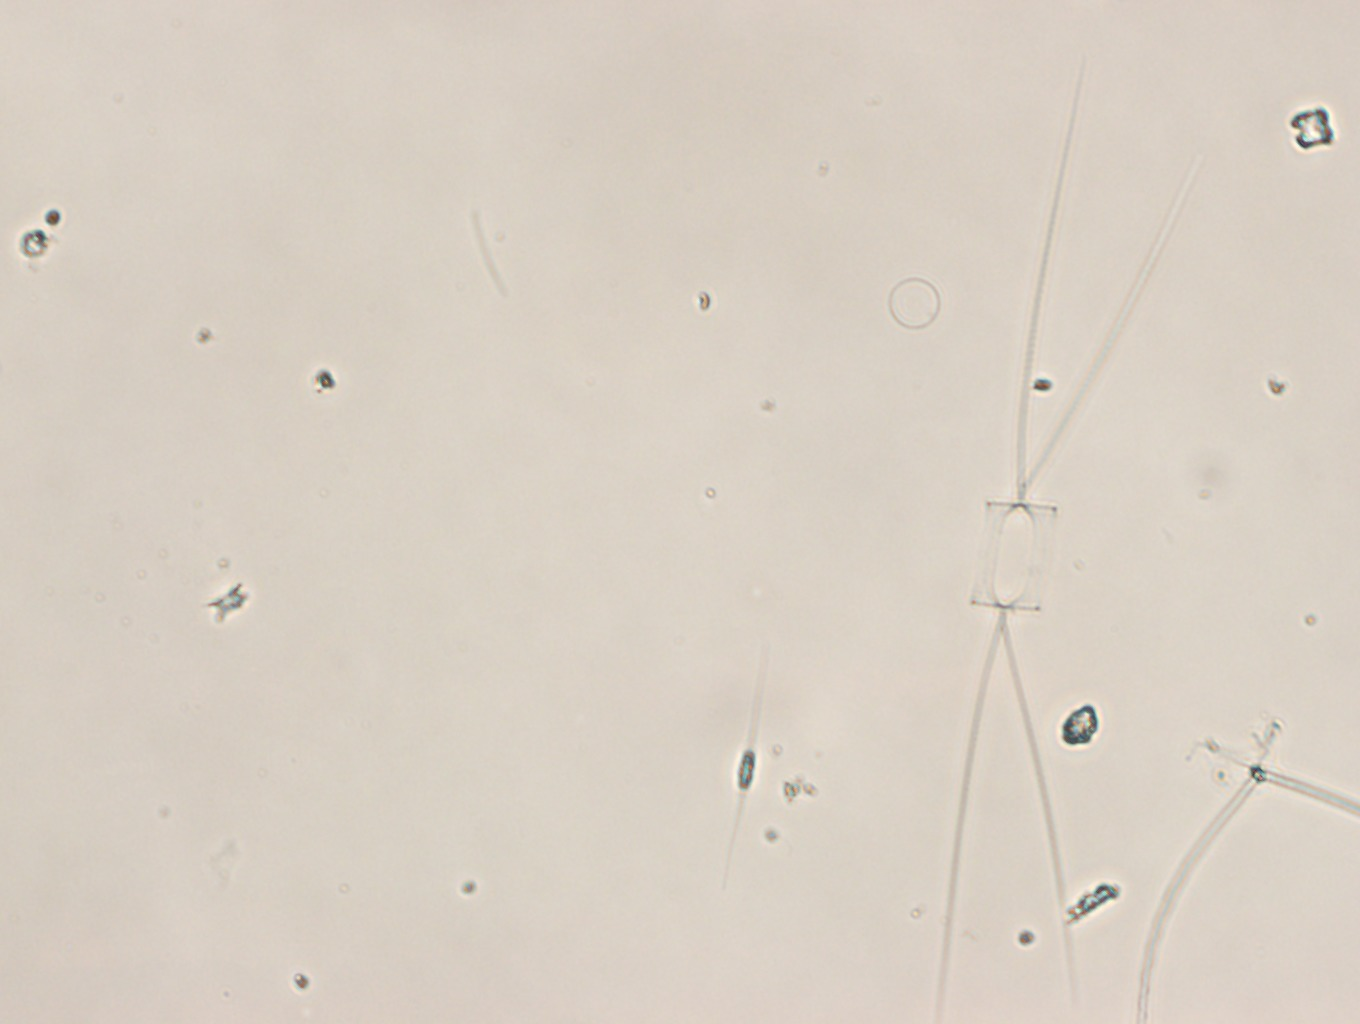chaetoceros: (937, 45, 1207, 1024)
